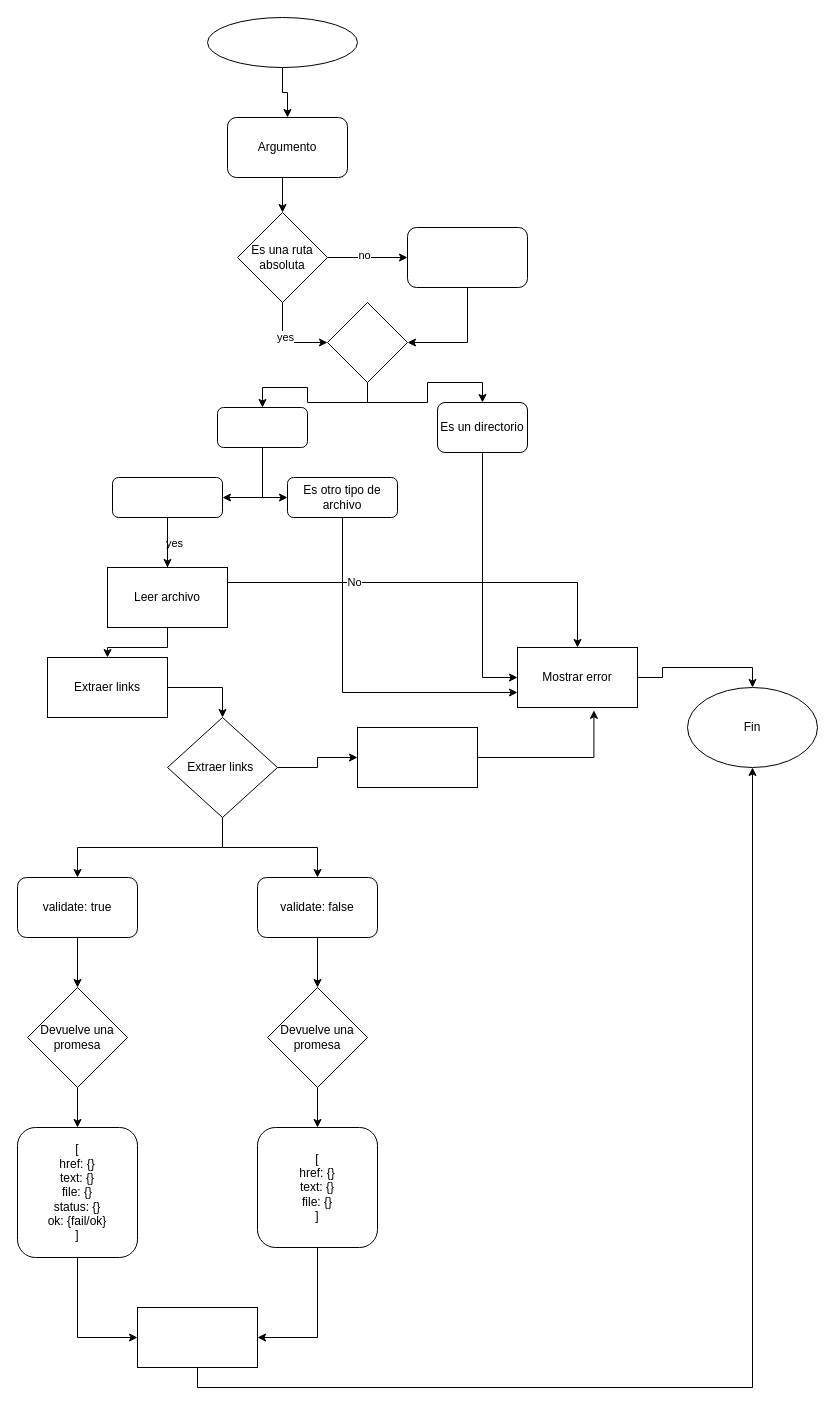
Some shapes in this 835 by 1413 pixel diagram are drawn without their labels. Here are the shapes that lost their labels. From the top down, the centre of each, then its label:
(x=282, y=42): Inicio
(x=467, y=257): Convertir en absoluta
(x=367, y=342): Qué contenedor es
(x=262, y=427): Es un archivo
(x=167, y=497): Es un archivo MD
(x=417, y=757): No hay links
(x=197, y=1337): Mostrar links al user
